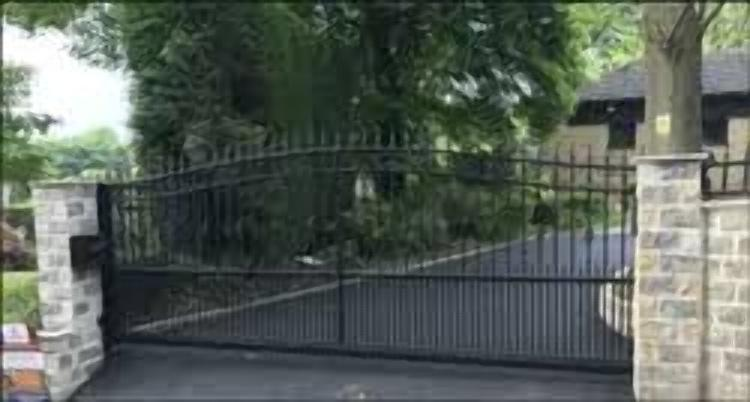Building: (548, 47, 750, 192)
Door: (609, 99, 635, 150), (703, 92, 727, 147)
Gate: (93, 129, 636, 377)
